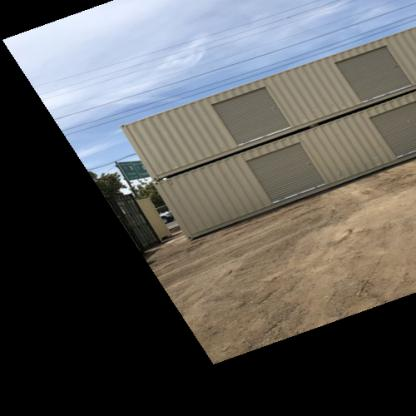Damage: (389, 51, 404, 80), (302, 153, 314, 167)
